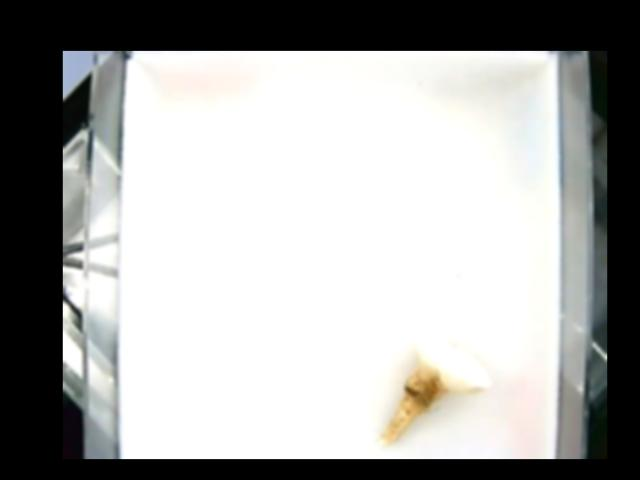Mooli: (374, 332, 489, 448)
